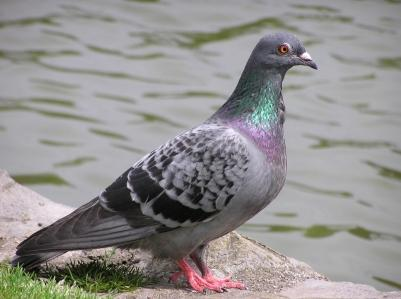Flying Rat: (15, 31, 319, 289)
